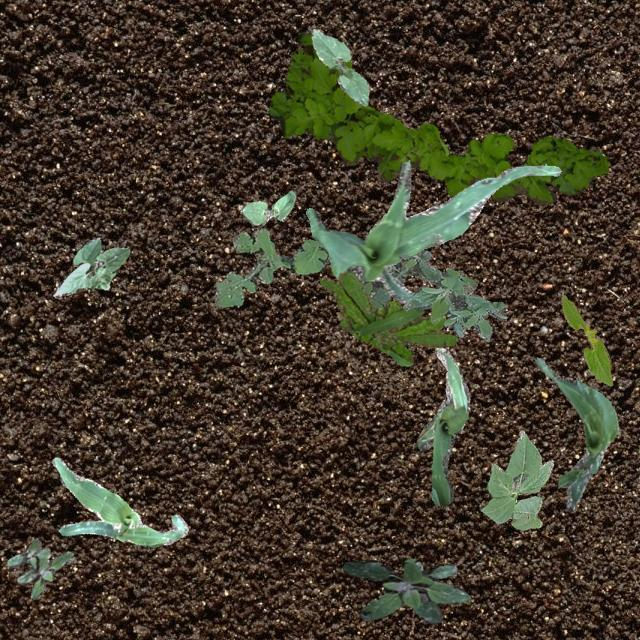crop: (304, 158, 560, 304), (532, 356, 618, 511), (52, 456, 186, 546), (416, 346, 470, 504), (478, 428, 552, 530), (560, 294, 612, 384), (52, 236, 128, 296), (311, 27, 368, 104), (240, 188, 296, 224)
weed: (268, 32, 606, 204), (319, 270, 455, 366), (398, 252, 506, 340), (212, 228, 326, 306), (342, 558, 470, 622), (353, 248, 429, 308), (7, 536, 72, 598)
